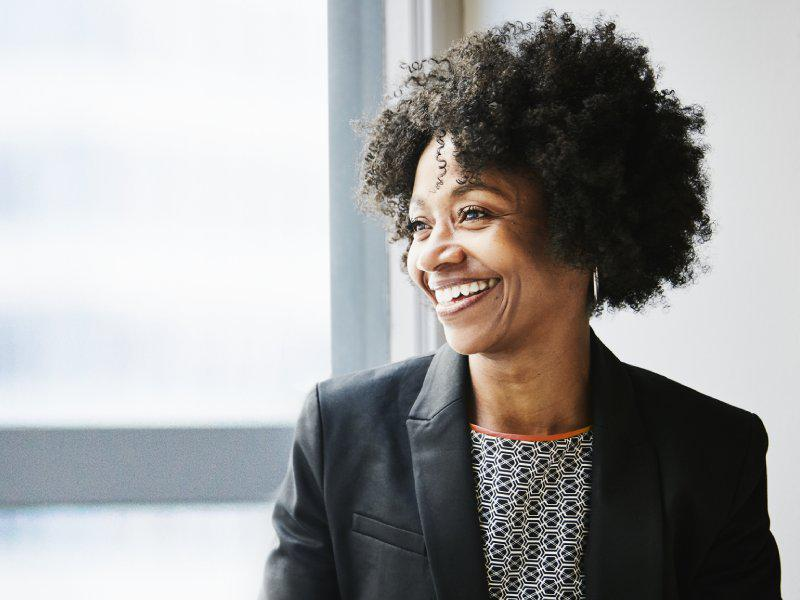Sober: (409, 148, 558, 351)
